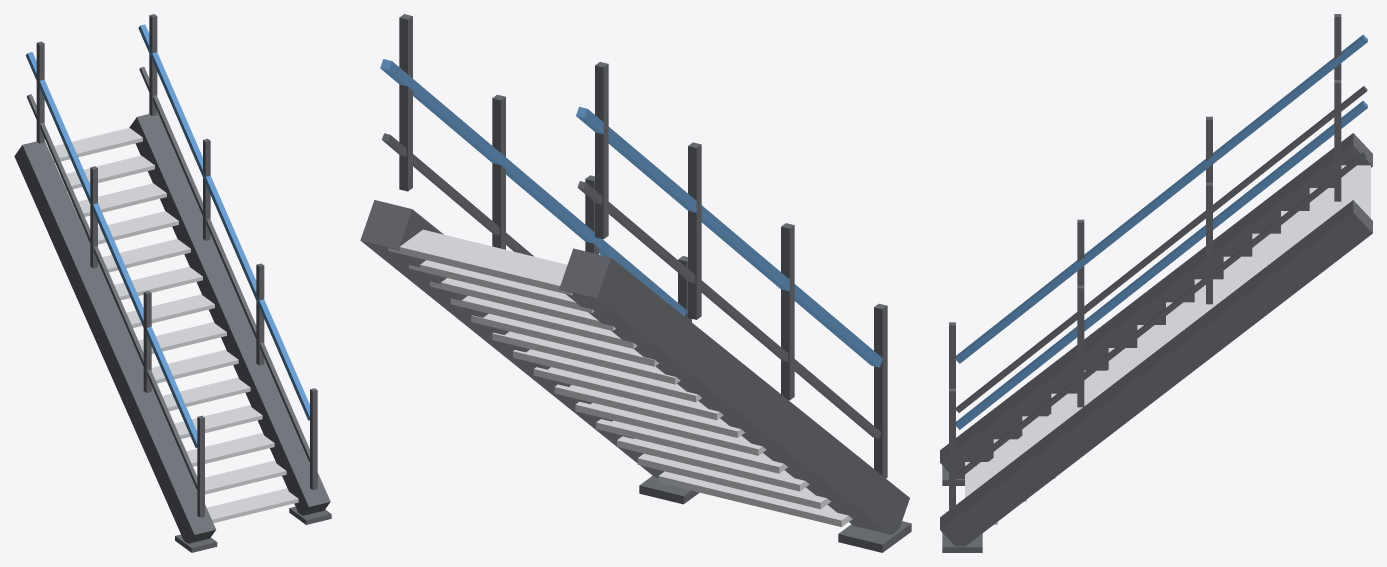
The model's file is Stair 3m.glb.
The picture shows the model from 3 angles, left to right: view 1: azimuth 30°, elevation 25°; view 2: azimuth 150°, elevation 25°; view 3: azimuth 270°, elevation 25°; orthographic projection. The views are drawn at different scales.
Parts seen in each view (by area): view 1: parcel-depot-and-sorting-hall-mezzanine-stair-flight; view 2: parcel-depot-and-sorting-hall-mezzanine-stair-flight; view 3: parcel-depot-and-sorting-hall-mezzanine-stair-flight.
Part boxes in pixels (x1,y1,x2,y2): parcel-depot-and-sorting-hall-mezzanine-stair-flight: (14,14,331,552); parcel-depot-and-sorting-hall-mezzanine-stair-flight: (360,14,911,552); parcel-depot-and-sorting-hall-mezzanine-stair-flight: (940,14,1372,552).
Size of the model in its own units: 1.54 by 4.06 by 3.44.
